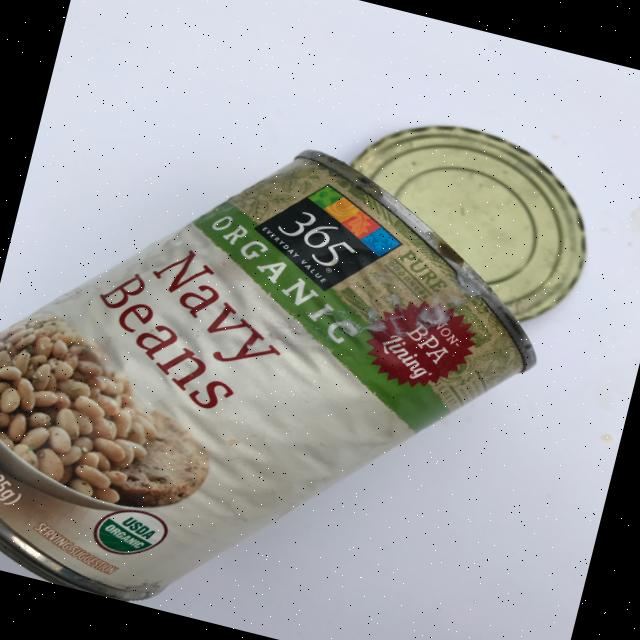metal: (0, 5, 630, 640)
